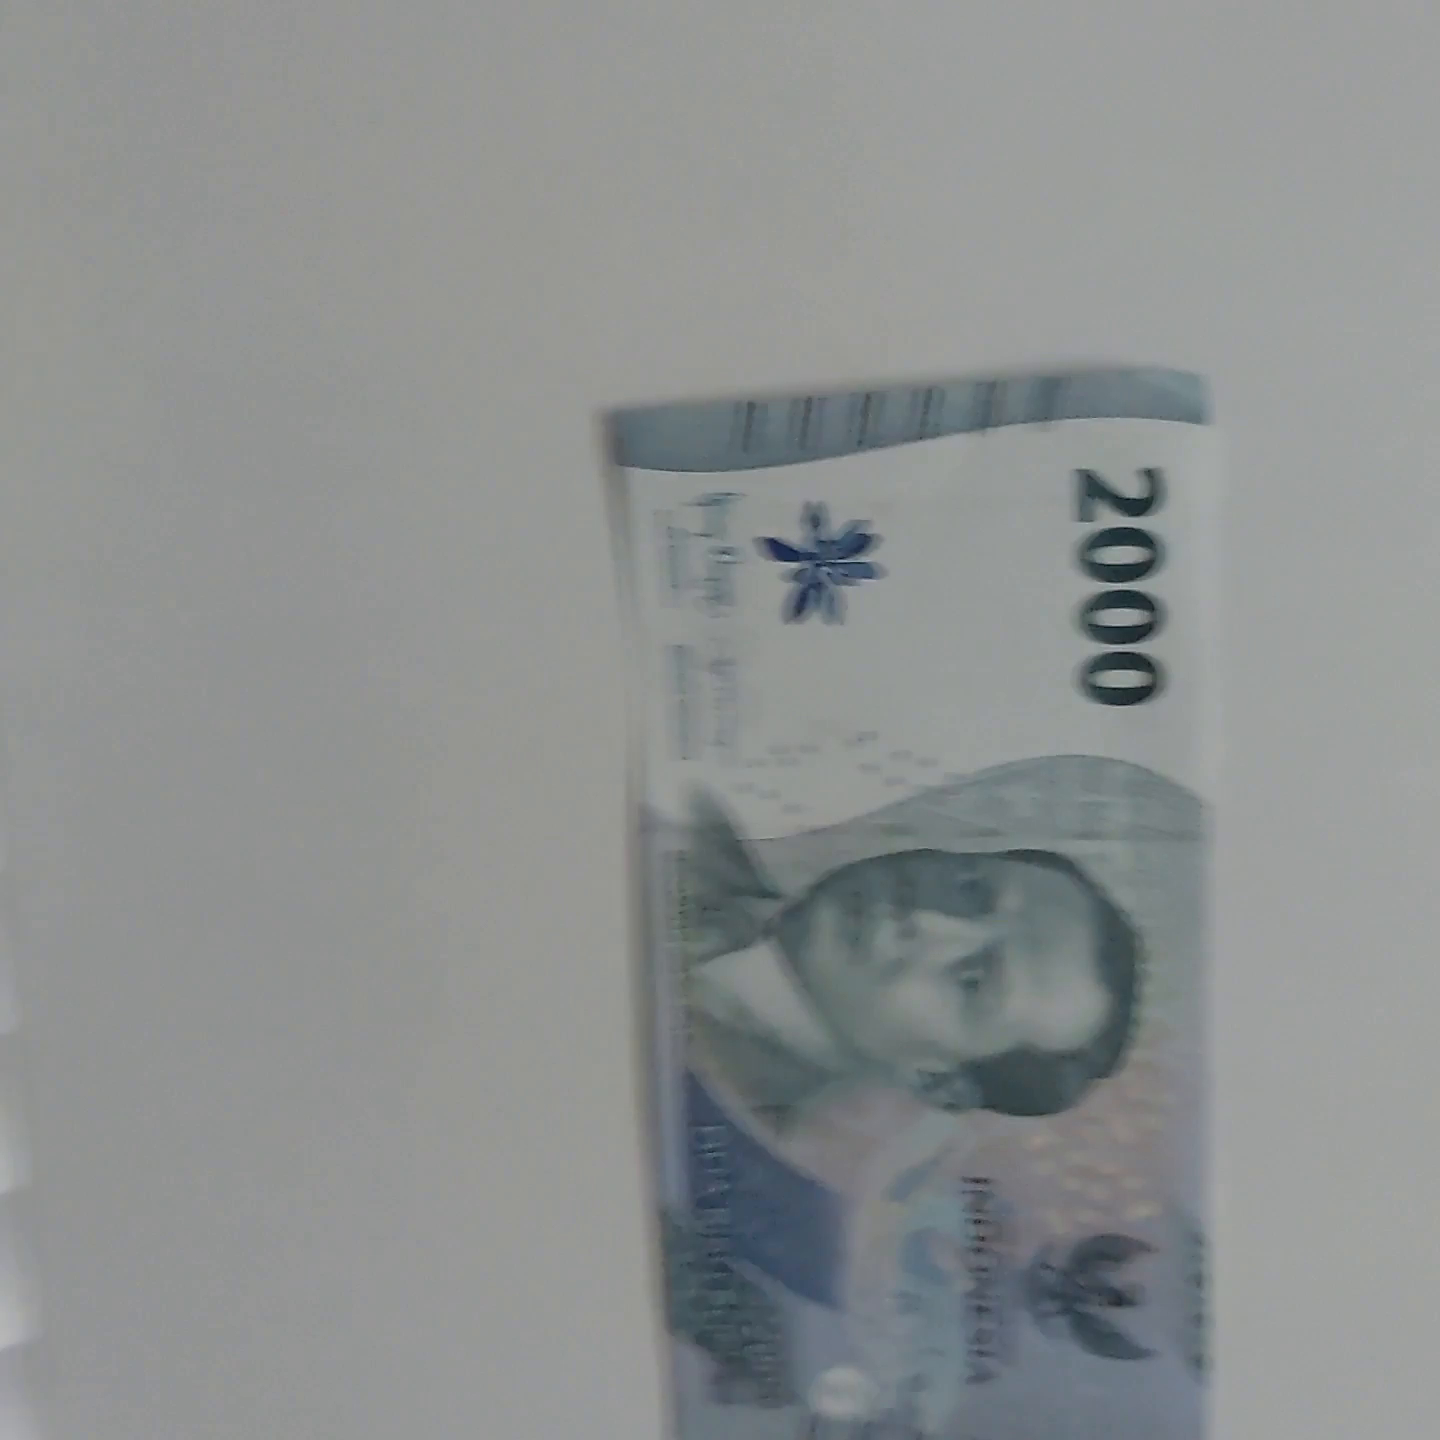2k: (603, 382, 1225, 1440)
